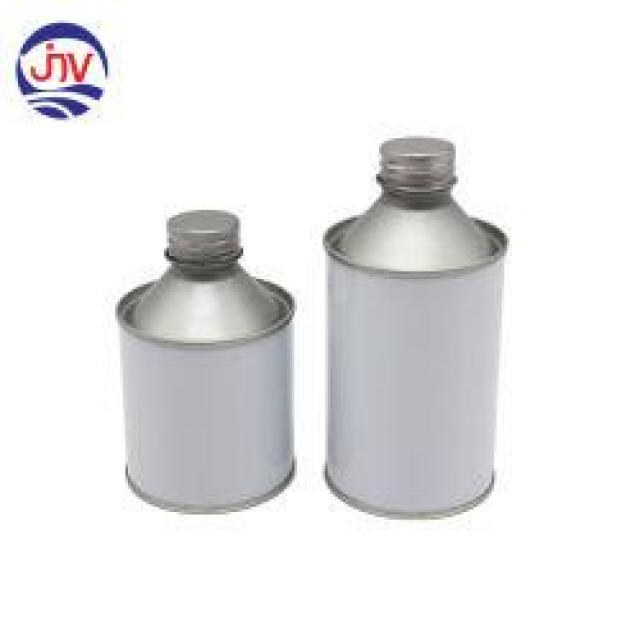metel: (316, 135, 523, 522), (108, 206, 305, 518)
